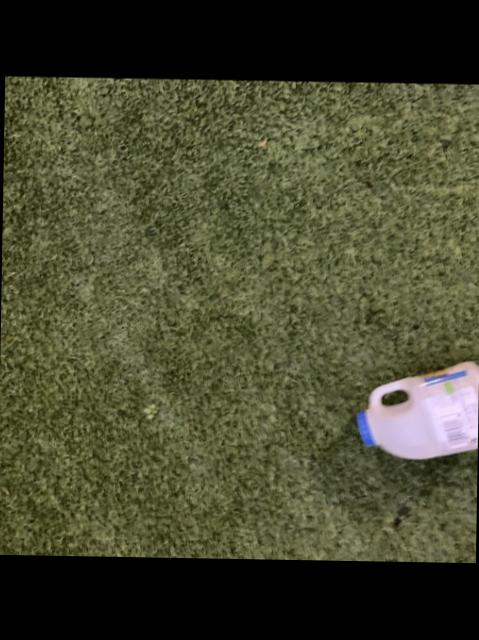plastic: (353, 361, 478, 458)
